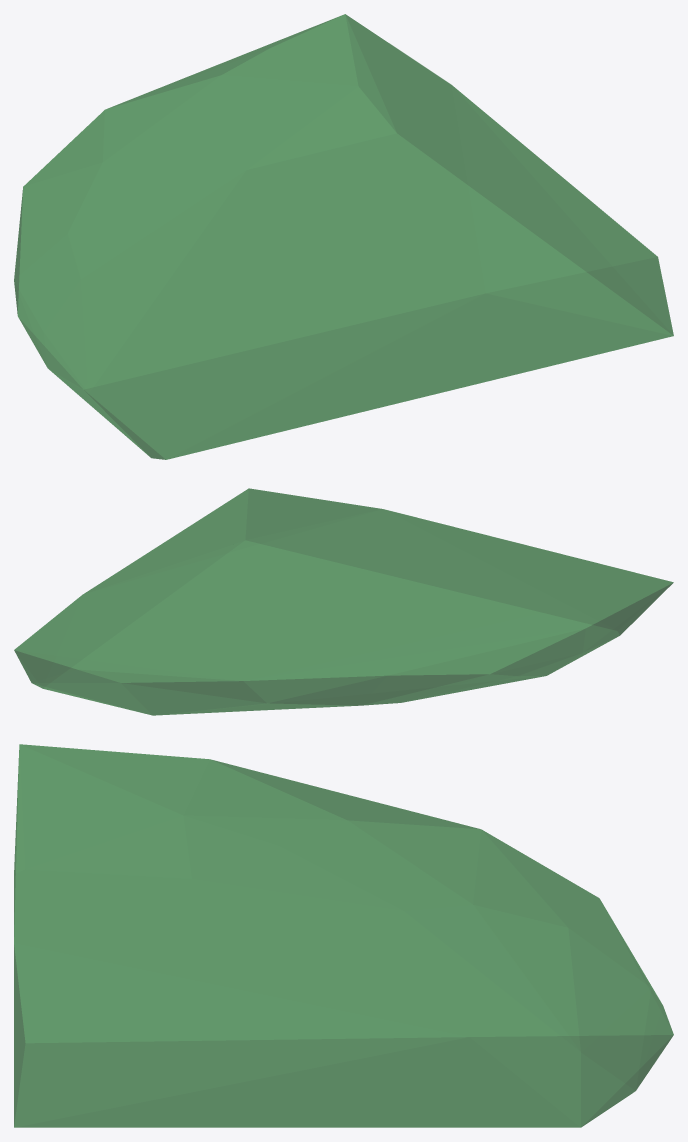
3 views of the same model, one above another, from view 1: azimuth 30°, elevation 25°; view 2: azimuth 150°, elevation 25°; view 3: azimuth 270°, elevation 25° (orthographic). The views are drawn at different scales.
Visible parts, largest first — view 1: Shape_IndexedFaceSet.003_Shape_IndexedFaceSet.7629; view 2: Shape_IndexedFaceSet.003_Shape_IndexedFaceSet.7629; view 3: Shape_IndexedFaceSet.003_Shape_IndexedFaceSet.7629.
Boxes of the visible parts, box(x1,y1,x2,y2) form: Shape_IndexedFaceSet.003_Shape_IndexedFaceSet.7629: box(14, 14, 673, 459); Shape_IndexedFaceSet.003_Shape_IndexedFaceSet.7629: box(14, 488, 673, 715); Shape_IndexedFaceSet.003_Shape_IndexedFaceSet.7629: box(14, 744, 673, 1127).
Bounding box in the file's own units: 0.5254 × 0.0757 × 0.4991.
